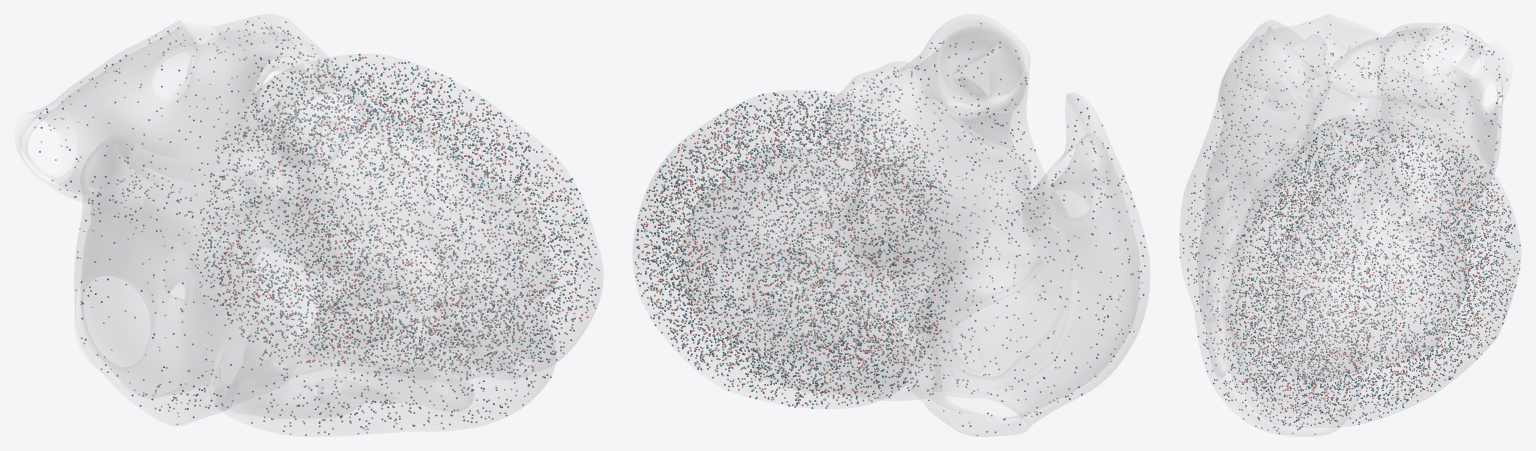
File: 3d-vh-f-heart-UBERON_0000948-all-as-azimuth-sphere-hra-pop.glb
3 views of the same model, side by side, from view 1: azimuth 30°, elevation 25°; view 2: azimuth 150°, elevation 25°; view 3: azimuth 270°, elevation 25° (orthographic). The views are drawn at different scales.
Parts seen in each view (by area): view 1: VH_F_right_ventricle, VH_F_right_cardiac_atrium, VH_F_left_cardiac_atrium, VH_F_left_ventricle, VH_F_tricuspid_valve, VH_F_aortic_valve, VH_F_pulmonary_valve, VH_F_papillary_muscle_of_heart_ant; view 2: VH_F_left_ventricle, VH_F_right_cardiac_atrium, VH_F_left_cardiac_atrium, VH_F_right_ventricle, VH_F_tricuspid_valve, VH_F_mitral_valve, VH_F_pulmonary_valve, VH_F_papillary_muscle_of_heart_antlat, VH_F_papillary_muscle_of_heart_posmed, VH_F_interventricular_septum; view 3: VH_F_left_ventricle, VH_F_right_ventricle, VH_F_left_cardiac_atrium, VH_F_papillary_muscle_of_heart_antlat, VH_F_right_cardiac_atrium, VH_F_aortic_valve, VH_F_mitral_valve, VH_F_pulmonary_valve, VH_F_interventricular_septum, VH_F_papillary_muscle_of_heart_posmed.
Part boxes in pixels (box(x1,y1,x2,y2)): VH_F_right_ventricle: box(210, 58, 555, 436); VH_F_right_cardiac_atrium: box(74, 133, 277, 426); VH_F_left_cardiac_atrium: box(18, 14, 335, 237); VH_F_left_ventricle: box(254, 54, 602, 371); VH_F_tricuspid_valve: box(215, 246, 336, 405); VH_F_aortic_valve: box(204, 112, 297, 225); VH_F_pulmonary_valve: box(271, 92, 363, 170); VH_F_papillary_muscle_of_heart_ant: box(369, 318, 454, 372); VH_F_left_ventricle: box(633, 90, 911, 408); VH_F_right_cardiac_atrium: box(891, 93, 1149, 436); VH_F_left_cardiac_atrium: box(824, 61, 1045, 341); VH_F_right_ventricle: box(748, 14, 1067, 400); VH_F_tricuspid_valve: box(951, 232, 1068, 375); VH_F_mitral_valve: box(826, 196, 944, 308); VH_F_pulmonary_valve: box(939, 28, 1026, 118); VH_F_papillary_muscle_of_heart_antlat: box(712, 182, 825, 262); VH_F_papillary_muscle_of_heart_posmed: box(746, 238, 836, 314); VH_F_interventricular_septum: box(756, 187, 903, 391); VH_F_left_ventricle: box(1225, 115, 1520, 427); VH_F_right_ventricle: box(1180, 20, 1364, 436); VH_F_left_cardiac_atrium: box(1327, 23, 1506, 217); VH_F_papillary_muscle_of_heart_antlat: box(1328, 196, 1422, 327); VH_F_right_cardiac_atrium: box(1219, 14, 1482, 250); VH_F_aortic_valve: box(1300, 82, 1376, 166); VH_F_mitral_valve: box(1356, 155, 1437, 237); VH_F_pulmonary_valve: box(1238, 37, 1297, 114); VH_F_interventricular_septum: box(1221, 140, 1354, 412); VH_F_papillary_muscle_of_heart_posmed: box(1305, 290, 1396, 362).
Size of the model in its own units: 0.1426 by 0.11 by 0.1015.
